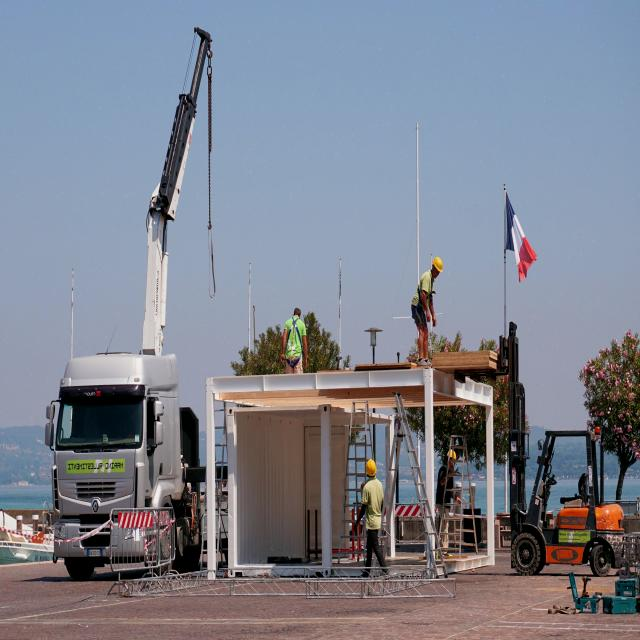hand_noglove: (430, 312, 438, 329), (425, 308, 431, 323)
head_helmet: (430, 258, 446, 270), (365, 460, 378, 474), (446, 450, 458, 460)
person: (408, 254, 446, 358), (357, 459, 388, 574), (431, 451, 460, 516), (280, 309, 310, 371)
shoes: (415, 358, 430, 371)
